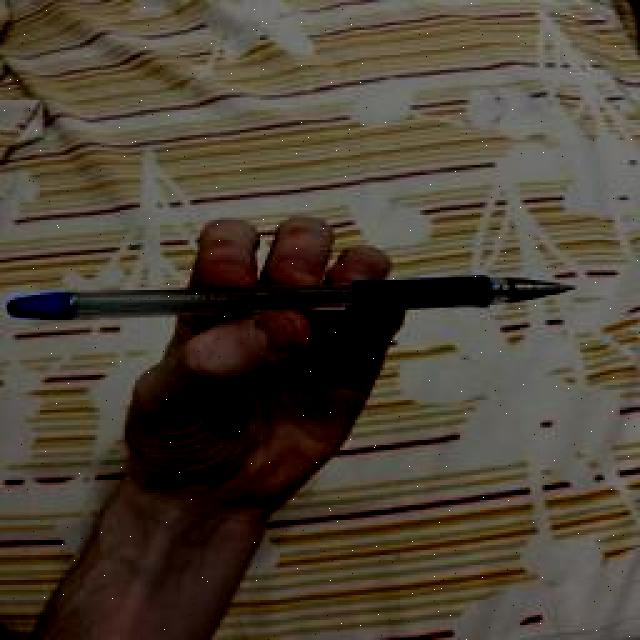pen: (5, 275, 578, 325)
